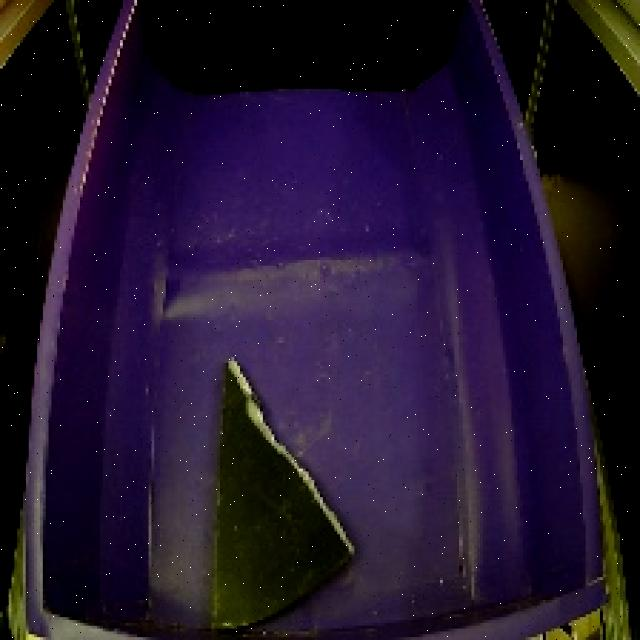china: (195, 343, 368, 640)
